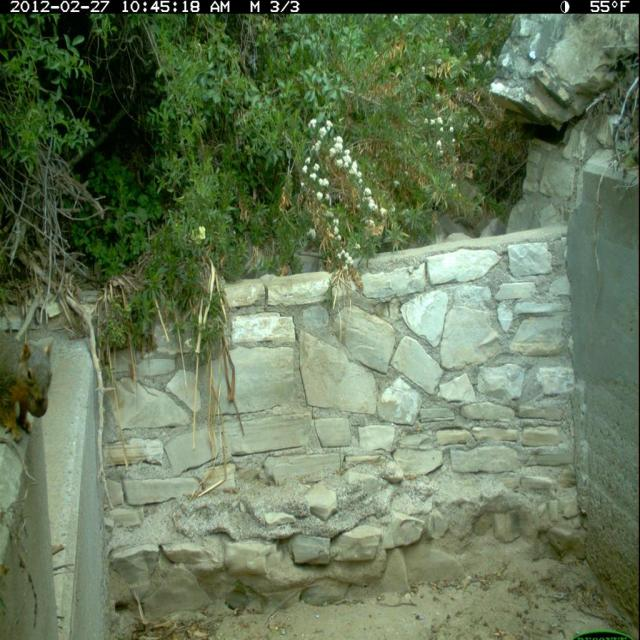squirrel: (1, 322, 57, 449)
